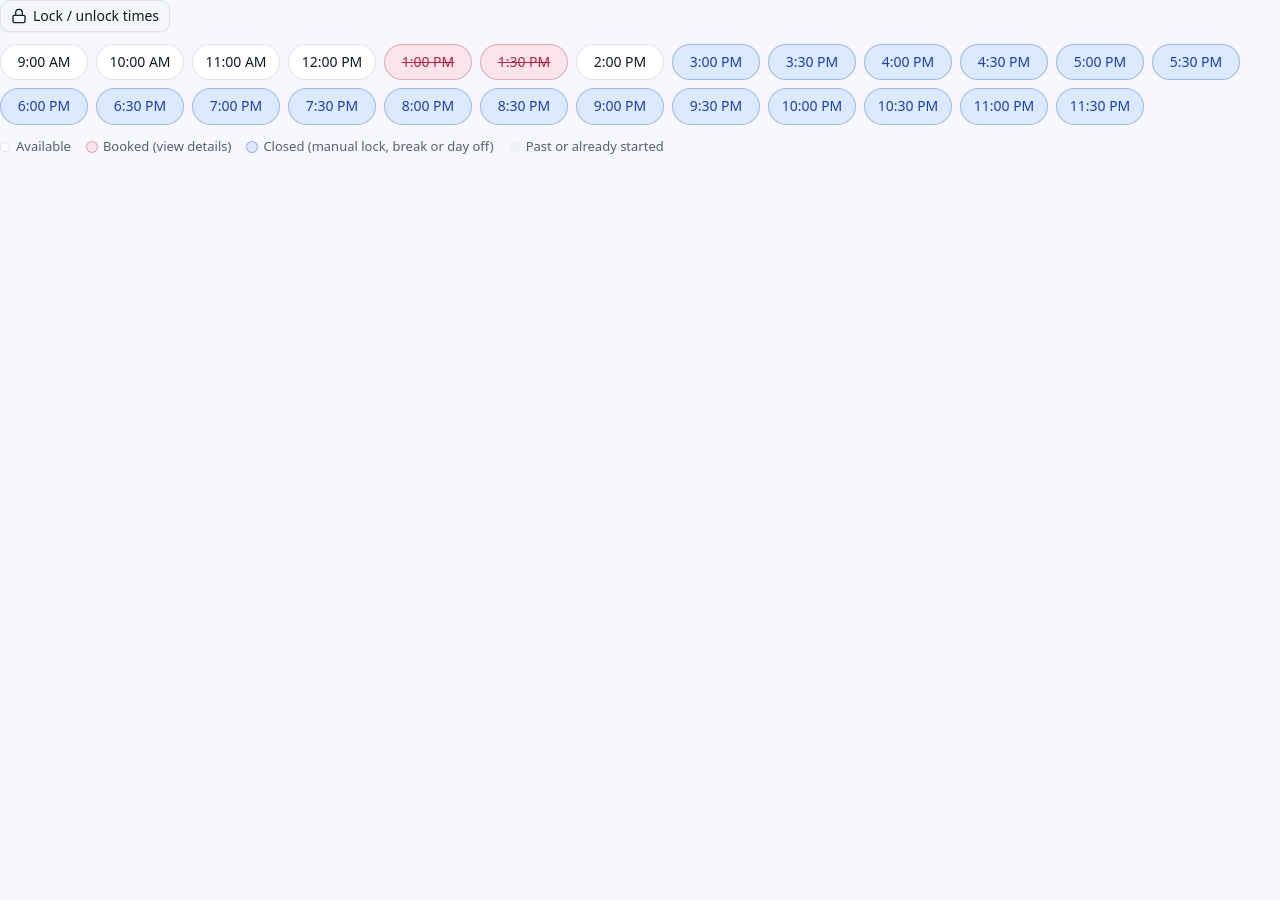
Test: booked hour bubble › shows one bubble per half-hour of a longer reservation
The width and height of the screenshot is (1280, 900).
Expected: the radio button with aria-label "1:00 PM, booked" is shown, [384,44,472,80]
Hover over the radio button with aria-label "1:30 PM, booked".
mouse_move(524, 62)  # box [480,44,568,80]
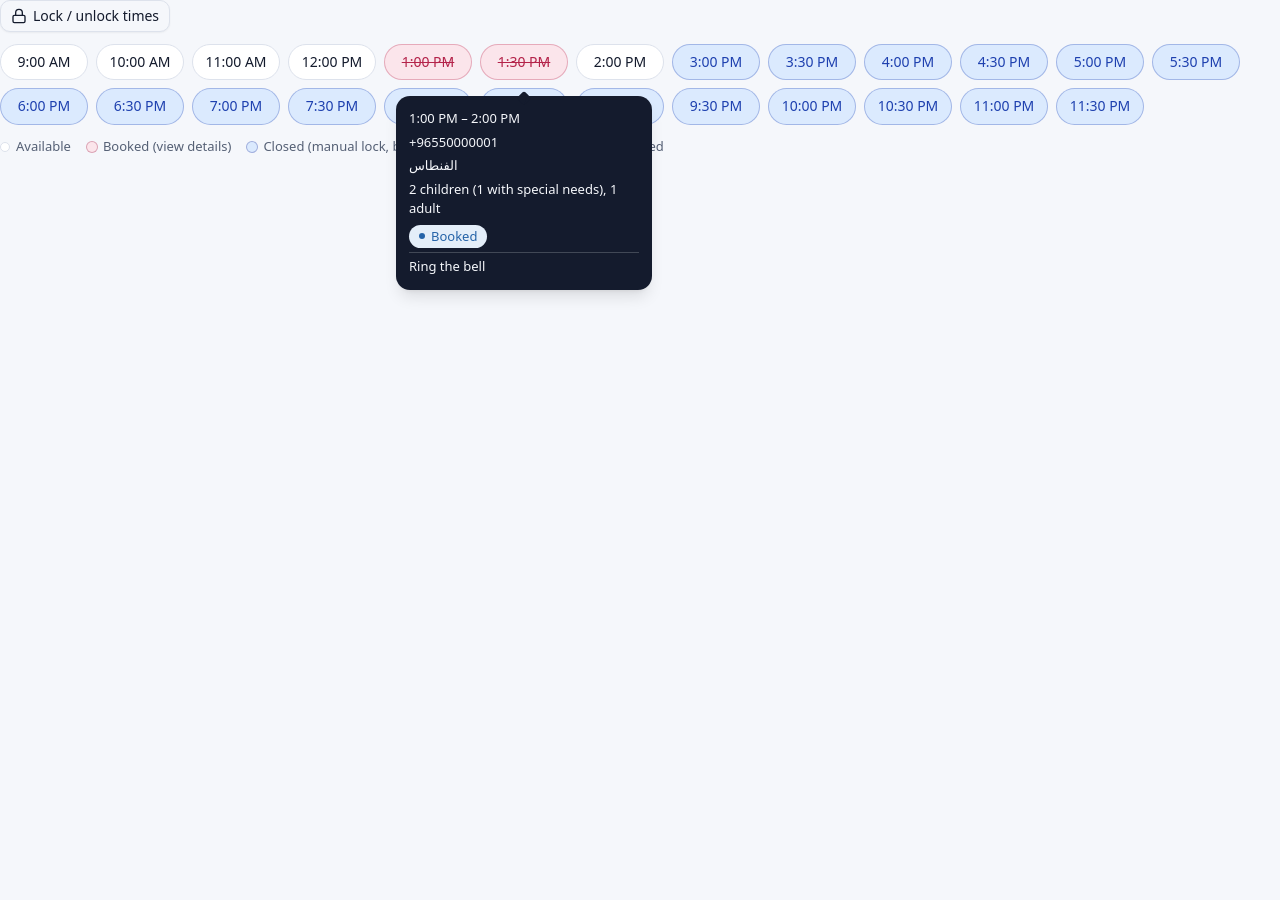
Result: the text "+96550000001" is shown once at [409,132,498,150]
